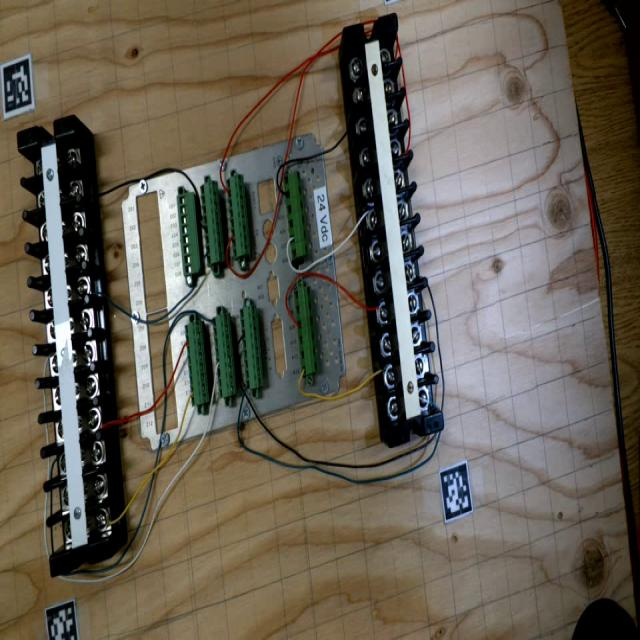Flathead_Block: (342, 14, 445, 448)
Phillips_Block: (16, 115, 111, 577)
Terminal_1: (283, 170, 309, 261), (294, 284, 319, 376)
Terminal_2: (200, 180, 225, 267), (184, 320, 209, 406), (226, 173, 251, 259), (212, 313, 237, 398), (240, 305, 264, 390)
